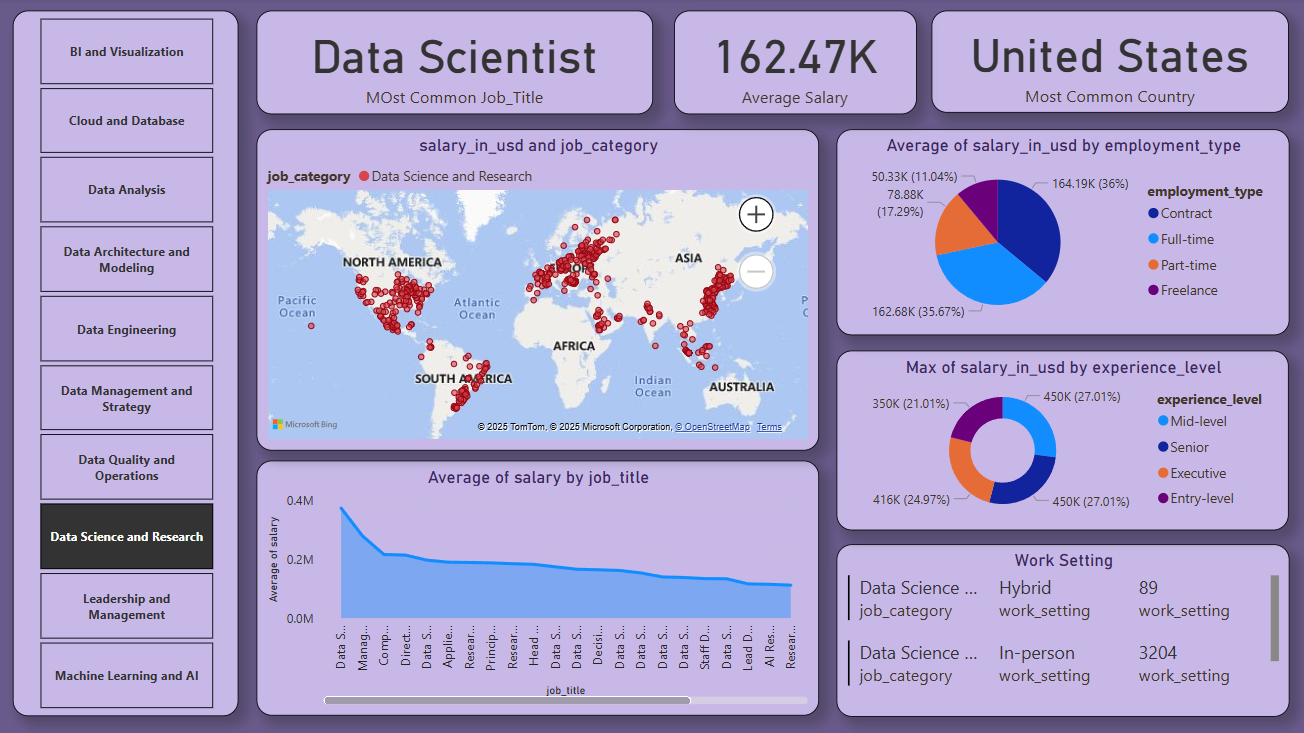

The dashboard page shown, as its layout file describes it:
{"tool":"powerbi","page":{"name":"Page 1","canvas":[1280,720],"ordinal":0},"visuals":[{"type":"slicer","fields":{"Values":["jobs_in_data_2024.job_category"]},"box":[13.7,12.3,220.9,690.2],"z":0},{"type":"areaChart","fields":{"Category":["jobs_in_data_2024.job_title"],"Y":["Avg(jobs_in_data_2024.salary)"]},"box":[252.5,452.8,550.3,249.7],"z":1000},{"type":"multiRowCard","title":"Work Setting","fields":{"Values":["jobs_in_data_2024.job_category","jobs_in_data_2024.work_setting","CountNonNull(jobs_in_data_2024.work_setting)"]},"box":[819.2,533.8,443.2,168.8],"z":2000},{"type":"donutChart","fields":{"Category":["jobs_in_data_2024.experience_level"],"Y":["Max(jobs_in_data_2024.salary_in_usd)"]},"box":[819.3,344.8,442.7,176.1],"z":3000},{"type":"pieChart","fields":{"Category":["jobs_in_data_2024.employment_type"],"Y":["Avg(jobs_in_data_2024.salary_in_usd)"]},"box":[819.2,129,443.2,201.7],"z":4000},{"type":"card","fields":{"Values":["Min(jobs_in_data_2024.employee_residence)"]},"box":[912,12,349.9,100],"z":5000},{"type":"card","fields":{"Values":["Max(jobs_in_data_2024.job_title)"]},"box":[252.5,12.3,388.3,101.5],"z":6000},{"type":"map","fields":{"Category":["jobs_in_data_2024.salary_in_usd"],"Series":["jobs_in_data_2024.job_category"]},"box":[252,129,550.3,314.2],"z":7000},{"type":"card","fields":{"Values":["jobs_in_data_2024.Measure"]},"box":[660,12.3,237.4,101.5],"z":8000}]}

Visuals, with their boxes in screenshot pixels (x1, y1, x2, y2), scaled from the page's 1280x720 canvas onto the 1304x733 screenshot:
slicer - jobs_in_data_2024.job_category: box=[14, 13, 239, 715]
areaChart - jobs_in_data_2024.job_title x Avg(jobs_in_data_2024.salary): box=[257, 461, 818, 715]
"Work Setting" multiRowCard: box=[835, 543, 1286, 715]
donutChart - jobs_in_data_2024.experience_level x Max(jobs_in_data_2024.salary_in_usd): box=[835, 351, 1286, 530]
pieChart - jobs_in_data_2024.employment_type x Avg(jobs_in_data_2024.salary_in_usd): box=[835, 131, 1286, 337]
card - Min(jobs_in_data_2024.employee_residence): box=[929, 12, 1286, 114]
card - Max(jobs_in_data_2024.job_title): box=[257, 13, 653, 116]
map - jobs_in_data_2024.salary_in_usd x jobs_in_data_2024.job_category: box=[257, 131, 817, 451]
card - jobs_in_data_2024.Measure: box=[672, 13, 914, 116]
